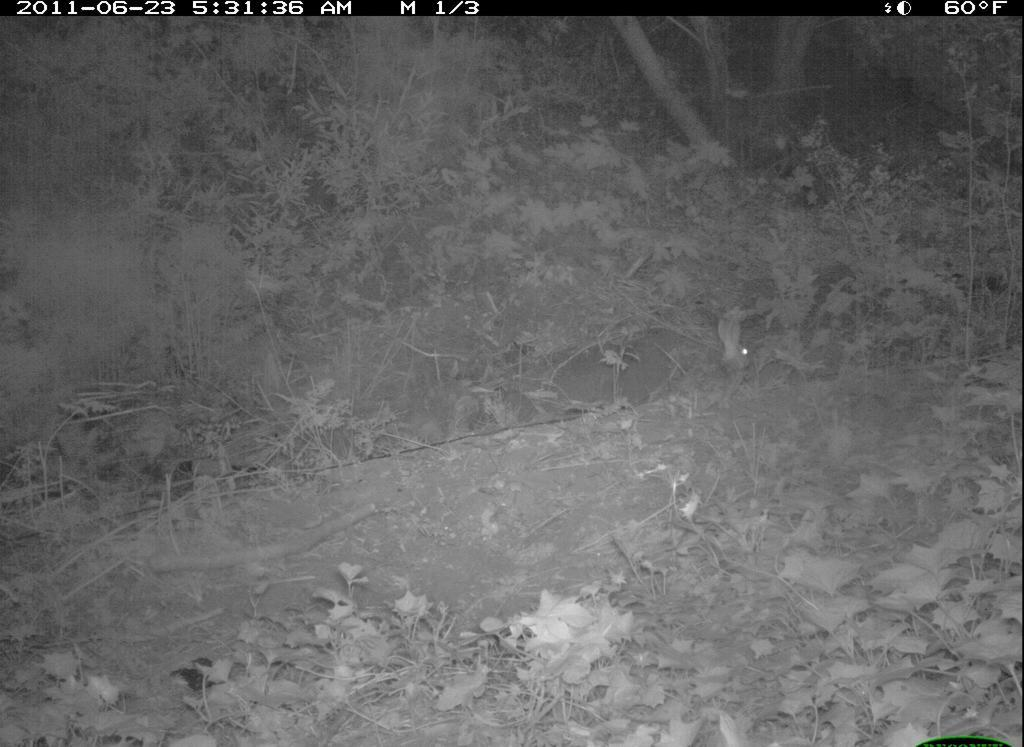rabbit: (665, 300, 759, 413)
